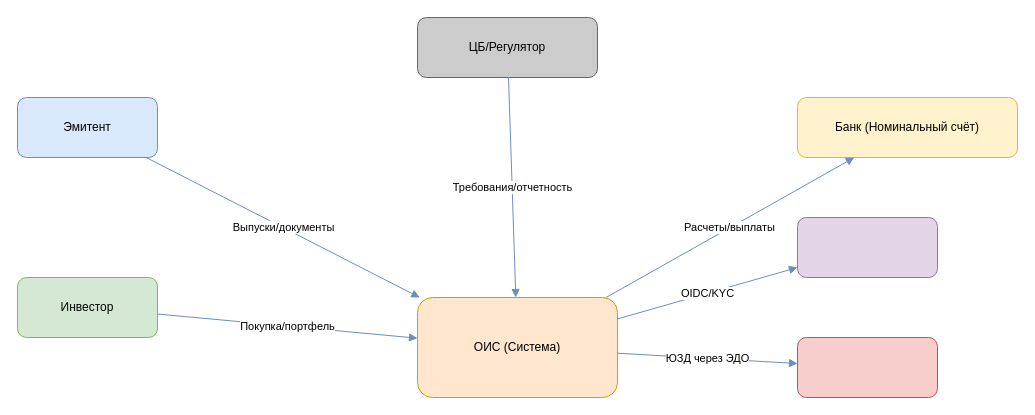
Some shapes in this 1035 by 415 pixel diagram are drawn without their labels. The shapes that lost their labels are listed below. From the top down, each one's centre as x and y in pixels, then its label:
At (867,247): "ЕСИА".
At (867,367): "ЭДО".
